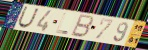4: (34, 9, 53, 33)
7: (94, 18, 114, 41)
9: (113, 21, 129, 43)
B: (69, 13, 96, 39)
L: (55, 12, 70, 35)
U: (17, 6, 40, 29)
